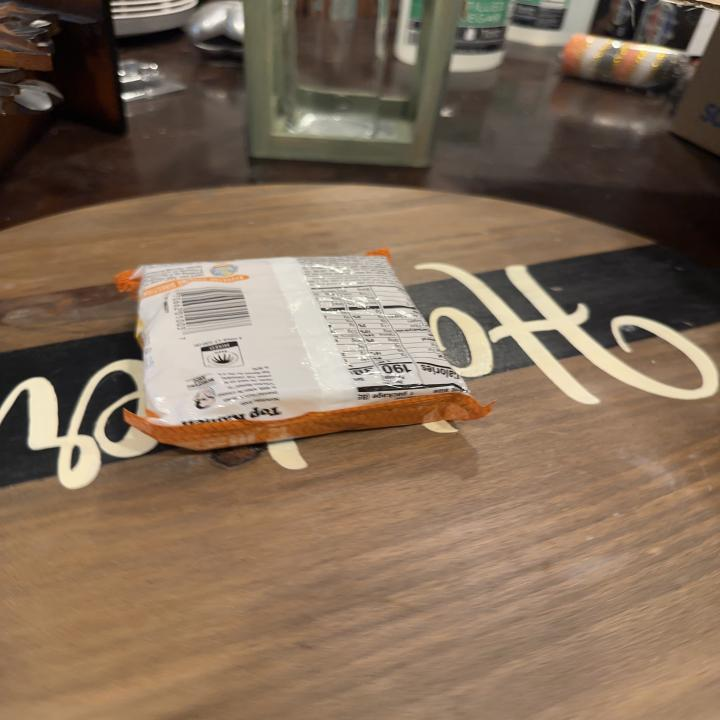Ramen: (113, 244, 498, 452)
